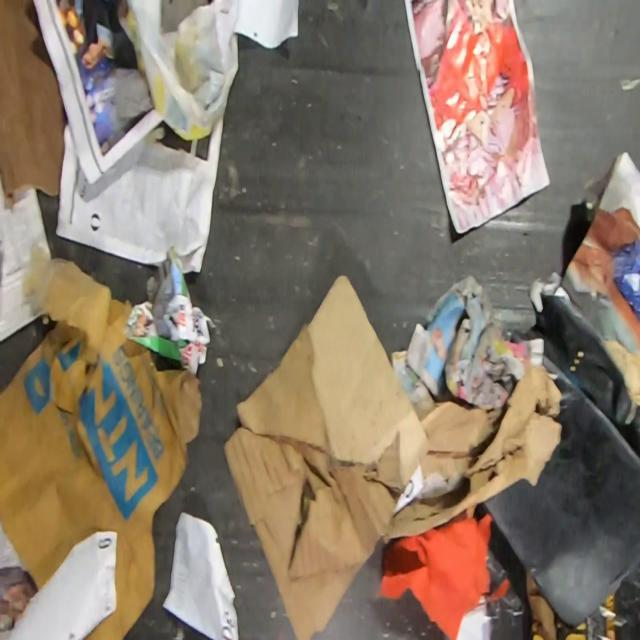cardboard: (222, 276, 563, 639), (0, 244, 203, 639), (0, 0, 68, 199)
soft_plastic: (116, 1, 242, 144)
